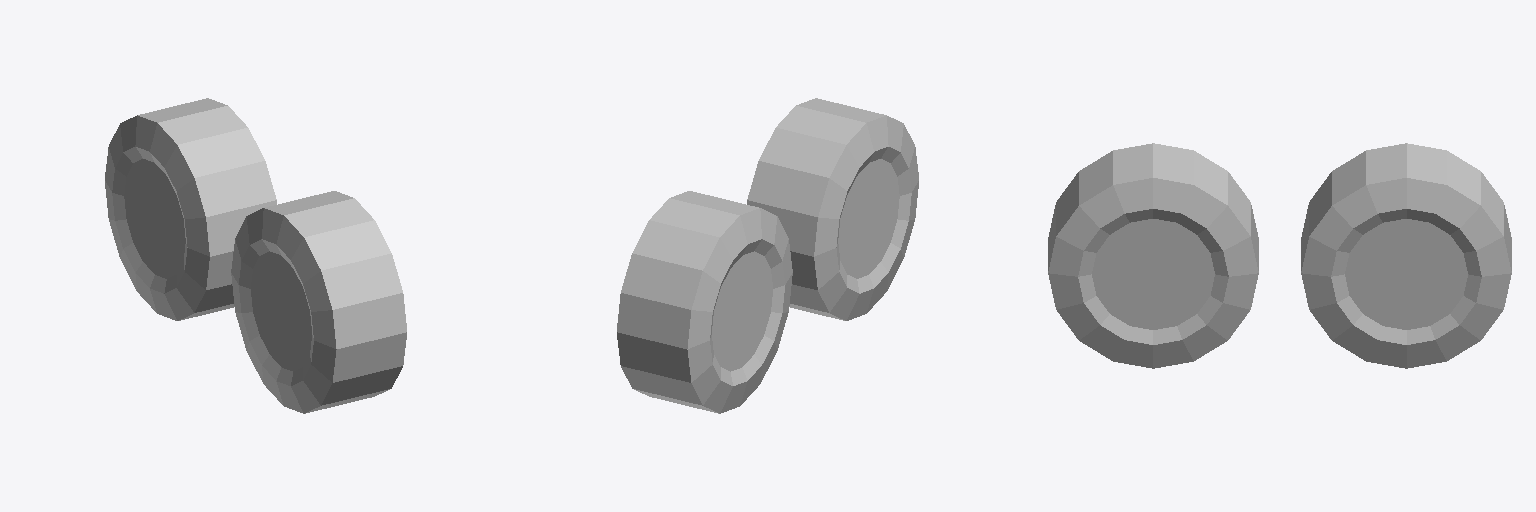
File: truck_1_1_rear_wheel.obj
3 views of the same model, side by side, from view 1: azimuth 30°, elevation 25°; view 2: azimuth 150°, elevation 25°; view 3: azimuth 270°, elevation 25° (orthographic).
Visible parts, largest first — view 1: Cylinder.002_Cylinder.004; view 2: Cylinder.002_Cylinder.004; view 3: Cylinder.002_Cylinder.004.
Boxes of the visible parts, <box> form: Cylinder.002_Cylinder.004: <box>105,98,406,413</box>; Cylinder.002_Cylinder.004: <box>617,98,918,413</box>; Cylinder.002_Cylinder.004: <box>1048,143,1511,368</box>.
Size of the model in its own units: 1.77 by 3.77 by 8.29.